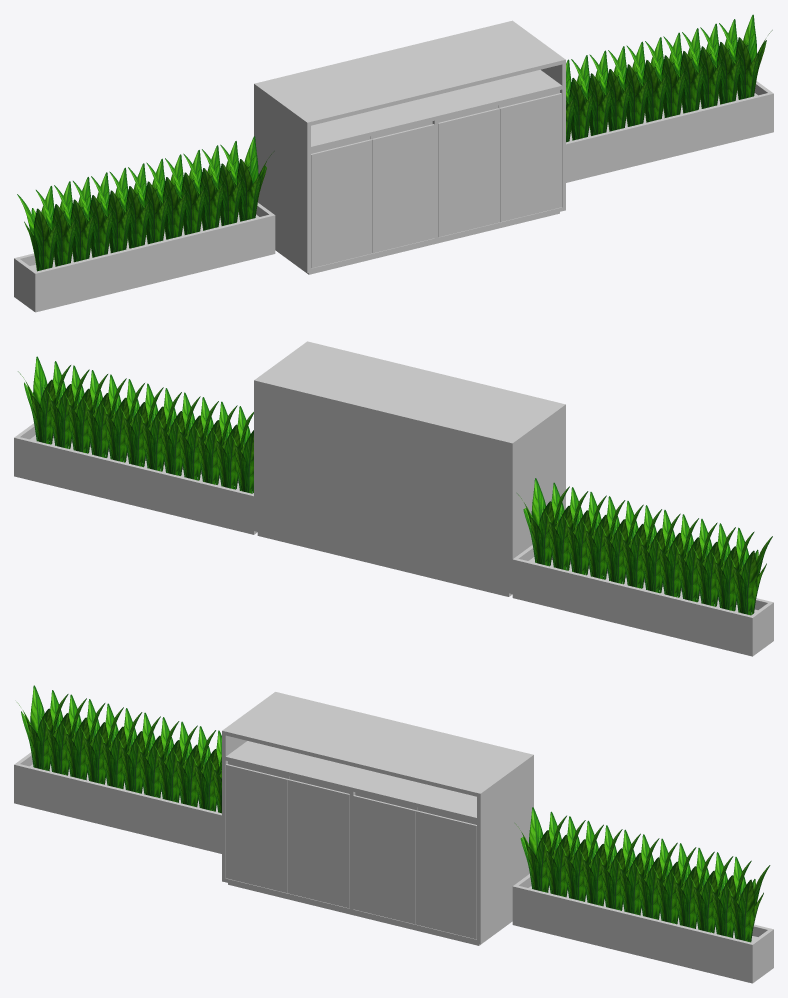
File: StandCentro4.obj
3 views of the same model, one above another, from view 1: azimuth 30°, elevation 25°; view 2: azimuth 150°, elevation 25°; view 3: azimuth 330°, elevation 25° (orthographic).
Parts seen in each view (by area): view 1: cabinet, pot_plant, Plane195, Plane179, Plane251, Plane163, Plane259, Plane147, Plane203, Plane275, Plane115, Plane235 (+12 smaller); view 2: cabinet, pot_plant, Plane197, Plane141, Plane213, Plane181, Plane253, Plane221, Plane229, Plane237, Plane157, Plane245 (+13 smaller); view 3: cabinet, pot_plant, Plane202, Plane210, Plane122, Plane138, Plane226, Plane130, Plane146, Plane170, Plane186, Plane154 (+12 smaller).
Boxes of the visible parts, <box> form: cabinet: <box>254,20,565,274</box>; pot_plant: <box>14,81,773,312</box>; Plane195: <box>33,208,49,270</box>; Plane179: <box>70,199,86,261</box>; Plane251: <box>624,64,640,126</box>; Plane163: <box>107,190,123,252</box>; Plane259: <box>606,69,621,130</box>; Plane147: <box>144,181,160,243</box>; Plane203: <box>735,37,751,99</box>; Plane275: <box>569,78,584,139</box>; Plane115: <box>218,163,233,225</box>; Plane235: <box>661,55,677,117</box>; cabinet: <box>254,341,565,596</box>; pot_plant: <box>14,423,773,656</box>; Plane197: <box>742,550,757,615</box>; Plane141: <box>612,519,628,583</box>; Plane213: <box>58,384,74,448</box>; Plane181: <box>705,542,720,606</box>; Plane253: <box>151,406,166,471</box>; Plane221: <box>77,388,92,452</box>; Plane229: <box>95,393,111,457</box>; Plane237: <box>114,397,129,461</box>; Plane157: <box>649,528,665,592</box>; Plane245: <box>132,402,148,466</box>; cabinet: <box>222,692,533,945</box>; pot_plant: <box>14,752,773,983</box>; Plane202: <box>739,879,754,941</box>; Plane210: <box>720,875,736,937</box>; Plane122: <box>203,749,219,810</box>; Plane138: <box>166,740,182,801</box>; Plane226: <box>683,866,699,928</box>; Plane130: <box>185,744,200,806</box>; Plane146: <box>148,735,163,797</box>; Plane170: <box>92,722,108,783</box>; Plane186: <box>55,713,71,774</box>; Plane154: <box>129,731,145,792</box>.
Size of the model in its own units: 402 by 80 by 50.
2 materials, 1 textured.
